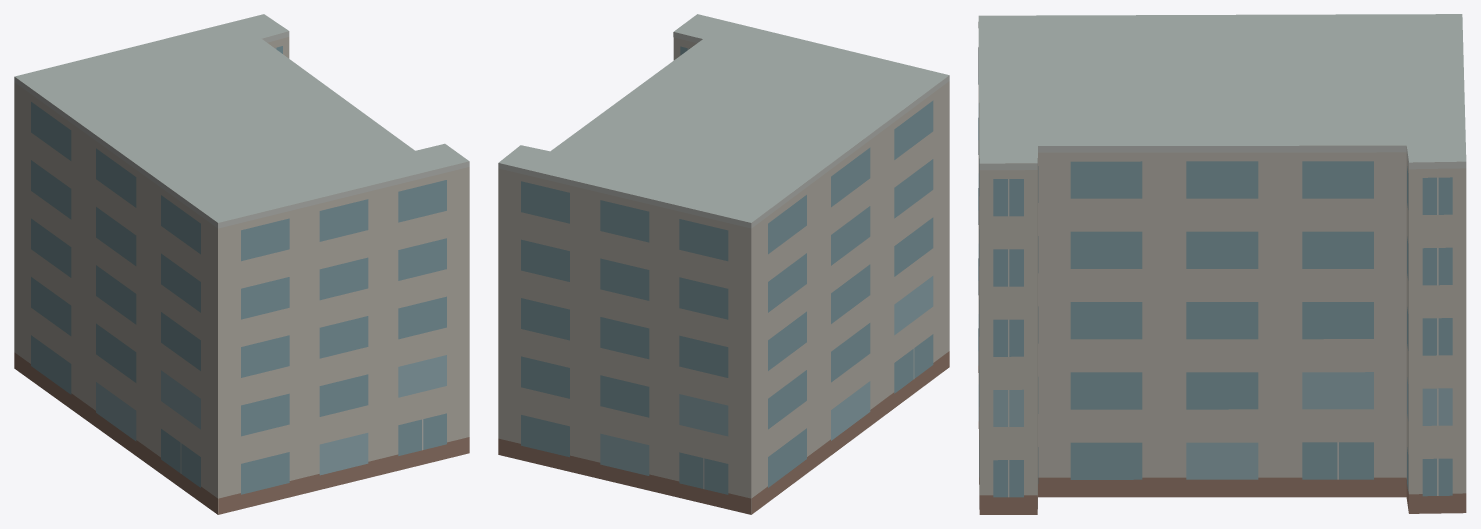
The model's file is survey-upis-32550918.glb.
3 renders of one model, left to right at view 1: azimuth 30°, elevation 25°; view 2: azimuth 150°, elevation 25°; view 3: azimuth 270°, elevation 25°, orthographic. The views are drawn at different scales.
Visible parts, largest first — view 1: survey-upis-32550918.tmp; view 2: survey-upis-32550918.tmp; view 3: survey-upis-32550918.tmp.
Boxes of the visible parts, box(x1,y1,x2,y2) form: survey-upis-32550918.tmp: box(14, 14, 469, 514); survey-upis-32550918.tmp: box(498, 14, 949, 514); survey-upis-32550918.tmp: box(978, 14, 1466, 514).
Size of the model in its own units: 11.6 by 12.7 by 15.99.
